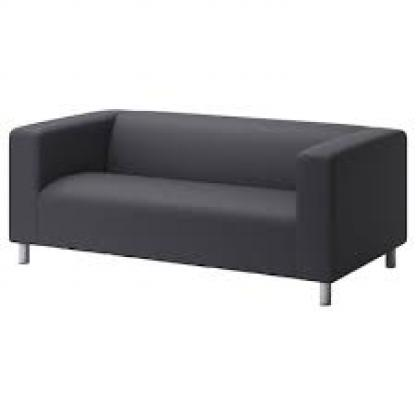sofa: (9, 104, 405, 309)
